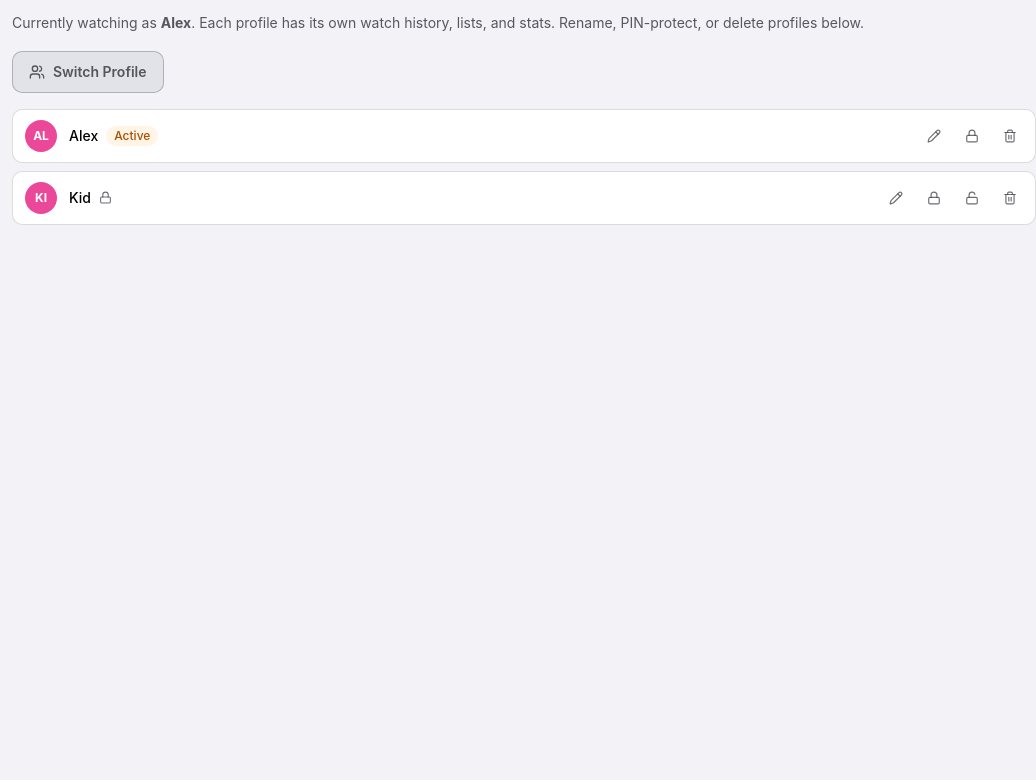
Test: ProfileSettings PINs › removes a PIN once the current one is given
Click the button named "Remove PIN for Kid" at (972, 198), box [959,185,985,211]
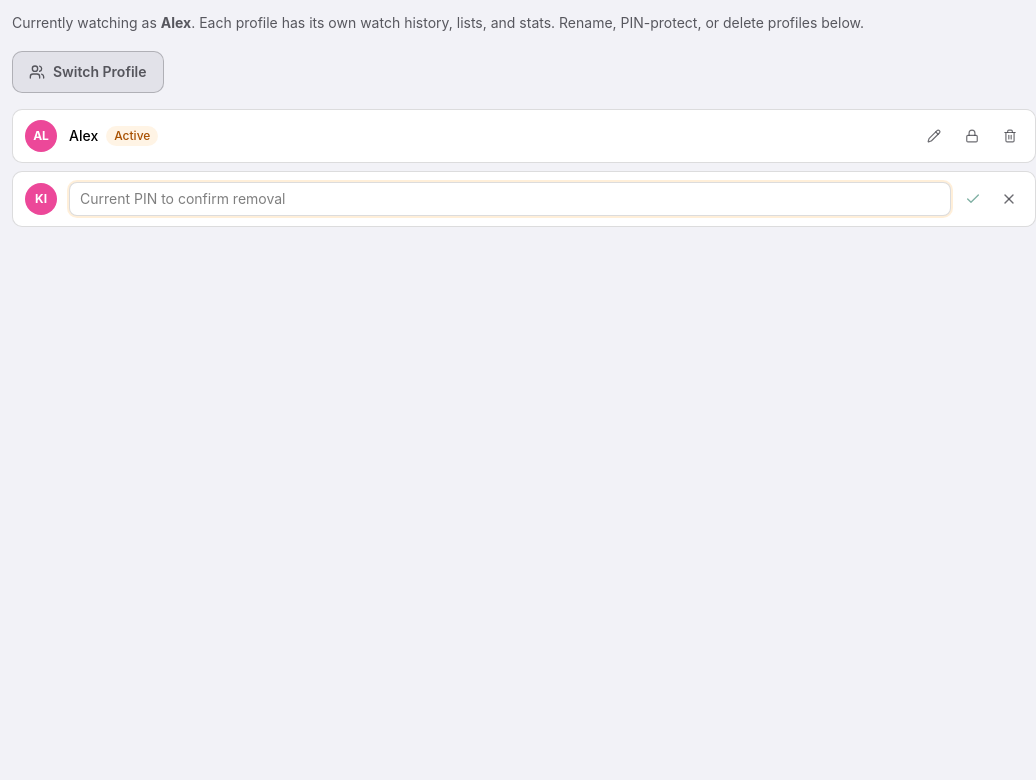
Type "1111" into the password field named "Current PIN for Kid, to confirm removal" at (510, 199), box [69,182,951,216]
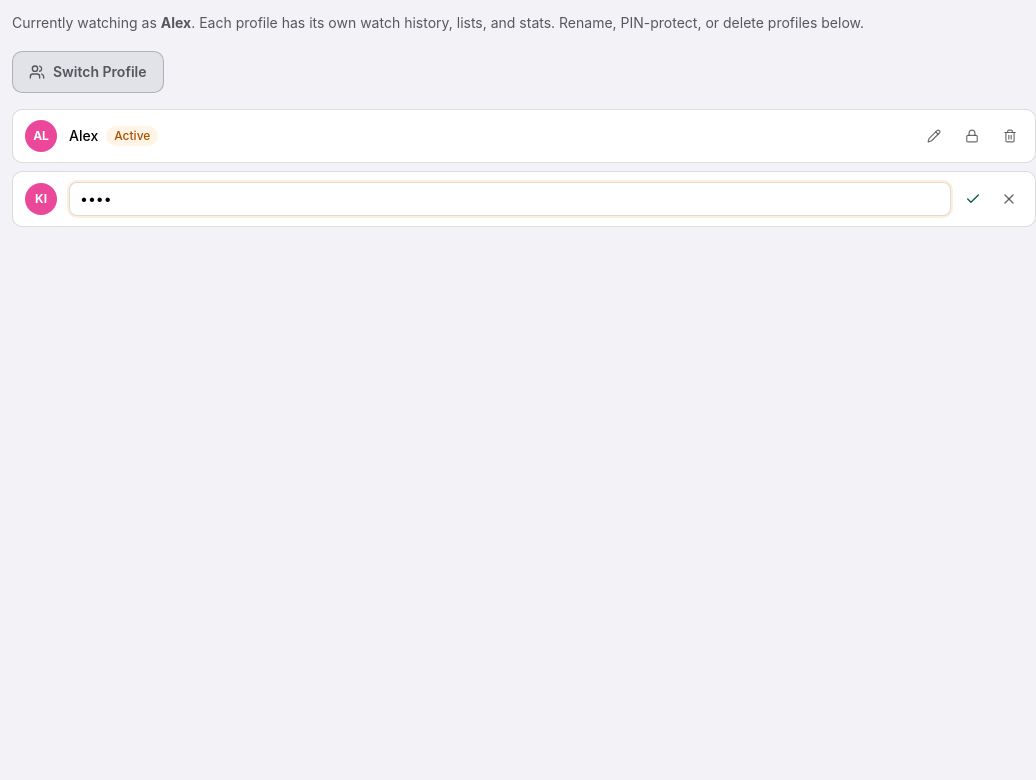
Click the button named "Confirm PIN removal" at (973, 199), box [959,185,987,213]
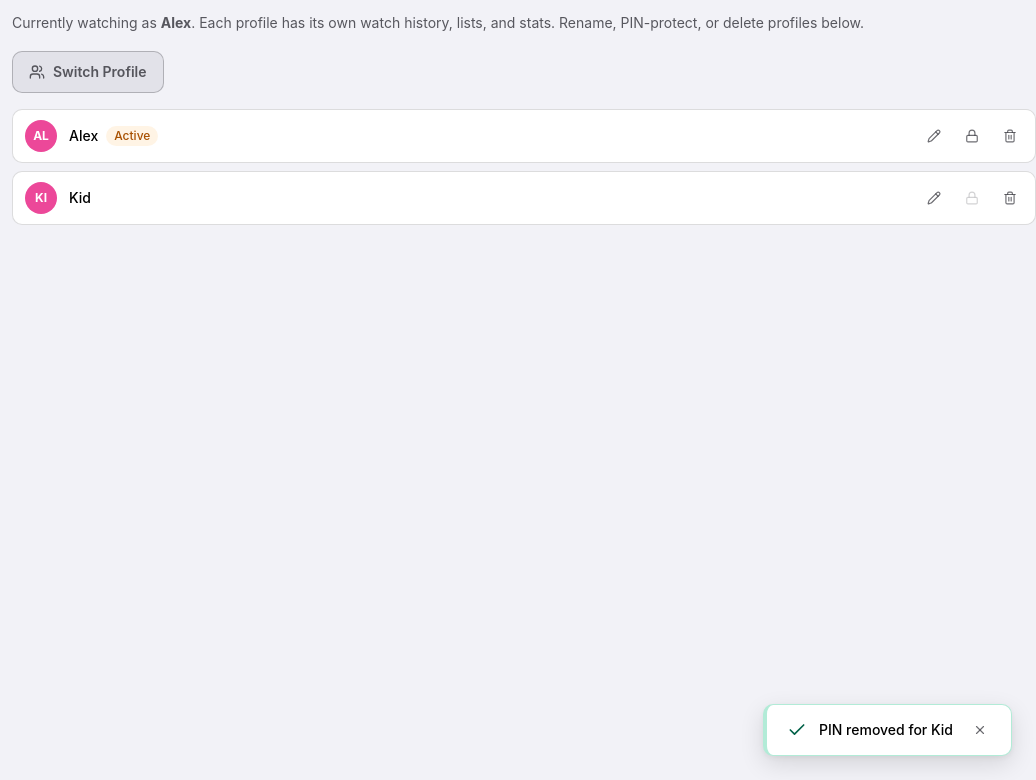
Expected: the text "PIN removed for Kid" is shown, [819,720,953,740]
